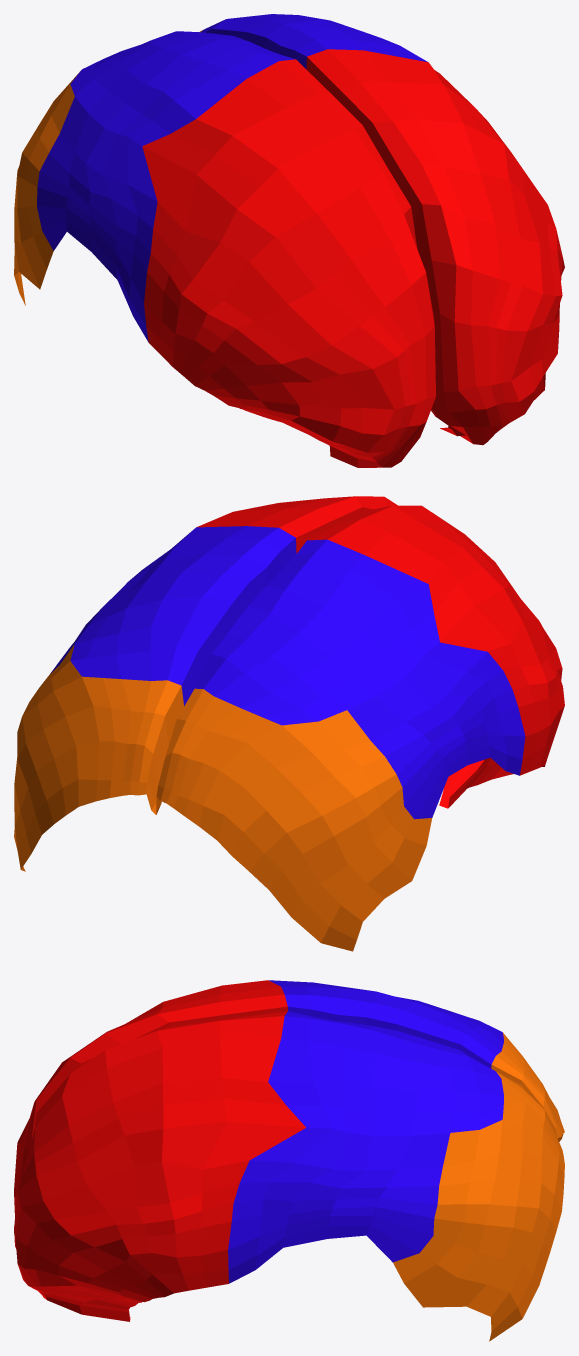
File: mozog_14_7.fbx
3 views of the same model, one above another, from view 1: azimuth 30°, elevation 25°; view 2: azimuth 150°, elevation 25°; view 3: azimuth 270°, elevation 25° (orthographic). The views are drawn at different scales.
Visible parts, largest first — view 1: FrontalLobe, ParietalLobe, OccipitalLobe; view 2: ParietalLobe, OccipitalLobe, FrontalLobe; view 3: FrontalLobe, ParietalLobe, OccipitalLobe.
Boxes of the visible parts, x1,y1,x2,y2 form: FrontalLobe: [142, 49, 564, 467]; ParietalLobe: [37, 14, 427, 342]; OccipitalLobe: [14, 30, 202, 305]; ParietalLobe: [50, 526, 525, 819]; OccipitalLobe: [14, 644, 432, 951]; FrontalLobe: [197, 496, 564, 808]; FrontalLobe: [14, 980, 305, 1321]; ParietalLobe: [228, 980, 503, 1283]; OccipitalLobe: [393, 1032, 564, 1341].
Size of the model in its own units: 329 by 267 by 458.
